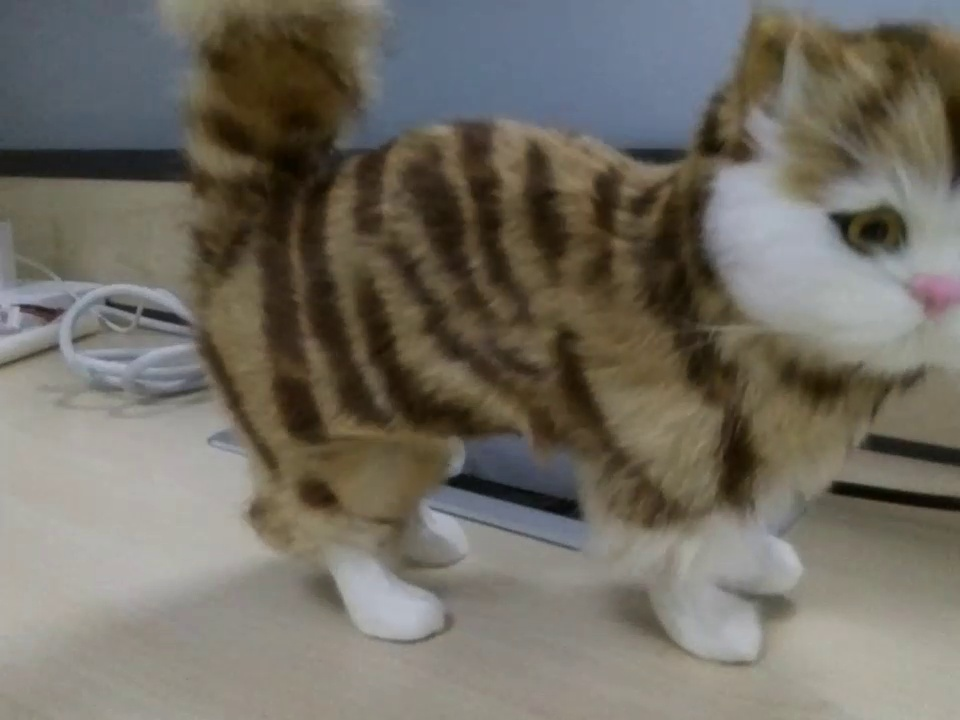cat: (146, 1, 957, 673)
